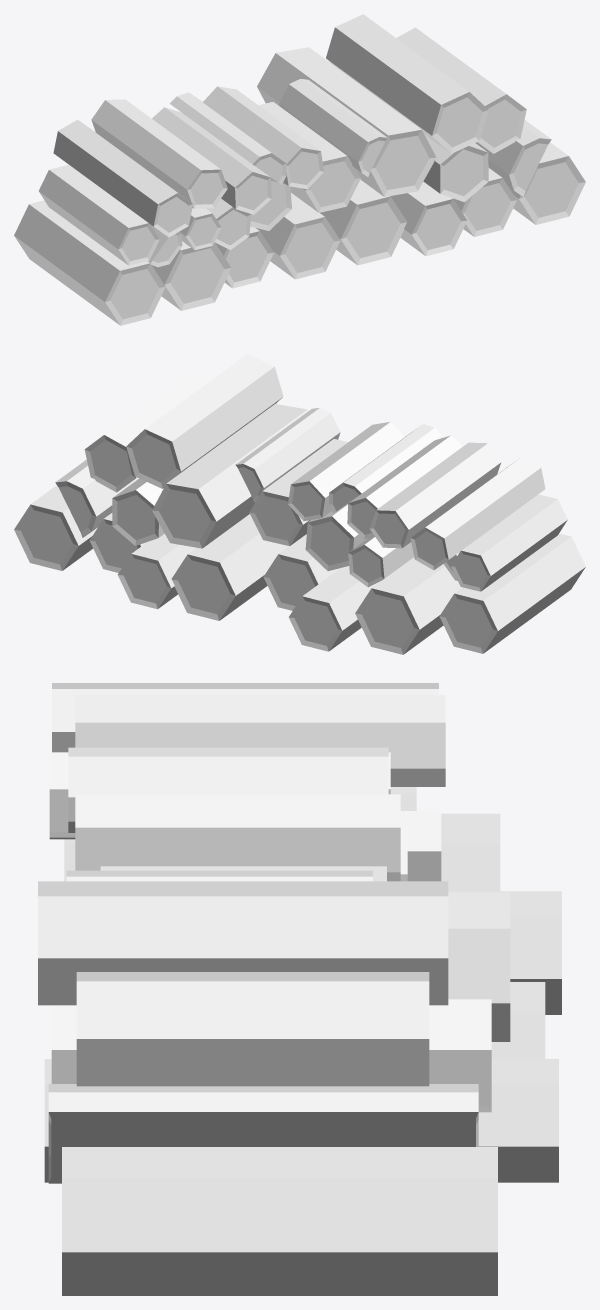
The model's file is Prop_Wood_Pile_02.glb.
3 renders of one model, top to bottom at view 1: azimuth 30°, elevation 25°; view 2: azimuth 150°, elevation 25°; view 3: azimuth 270°, elevation 25°, orthographic. The views are drawn at different scales.
Visible parts, largest first — view 1: Prop_Wood_Pile_02; view 2: Prop_Wood_Pile_02; view 3: Prop_Wood_Pile_02.
Boxes of the visible parts, x1=… form: Prop_Wood_Pile_02: x1=14, y1=14, x2=585, y2=325; Prop_Wood_Pile_02: x1=14, y1=354, x2=585, y2=654; Prop_Wood_Pile_02: x1=38, y1=683, x2=561, y2=1295.
Size of the model in its own units: 1.25 by 0.3866 by 0.6113.
Materials: 1 (1 with a texture image).
